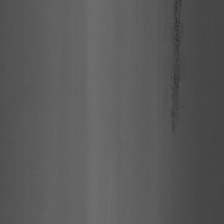inclusion: (164, 0, 193, 145)
